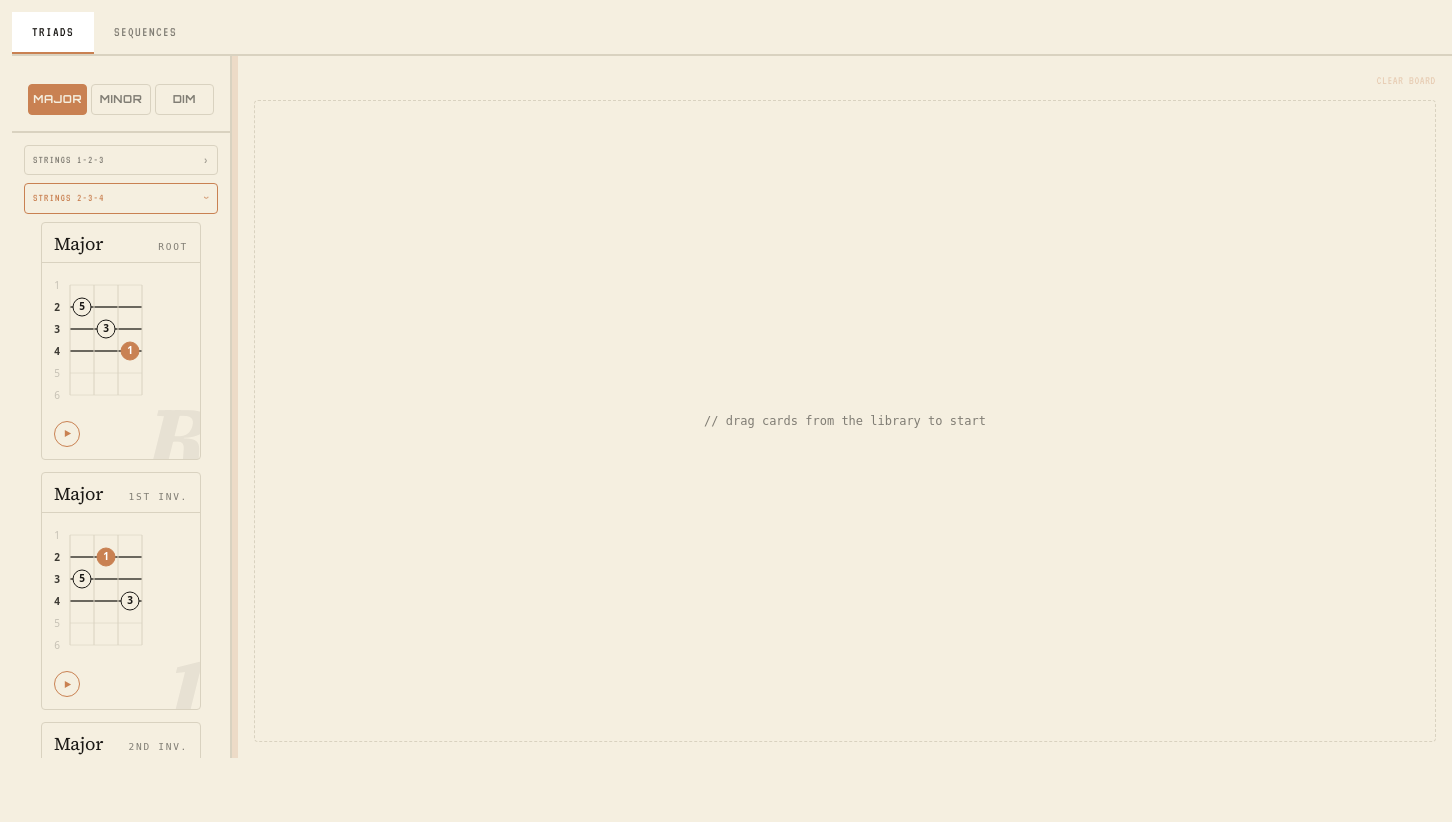
Test: Board › switches to the Sequences tab on click
Click the tab with test id "tab-sequences" at x=146, y=33, box [94,12,197,54]
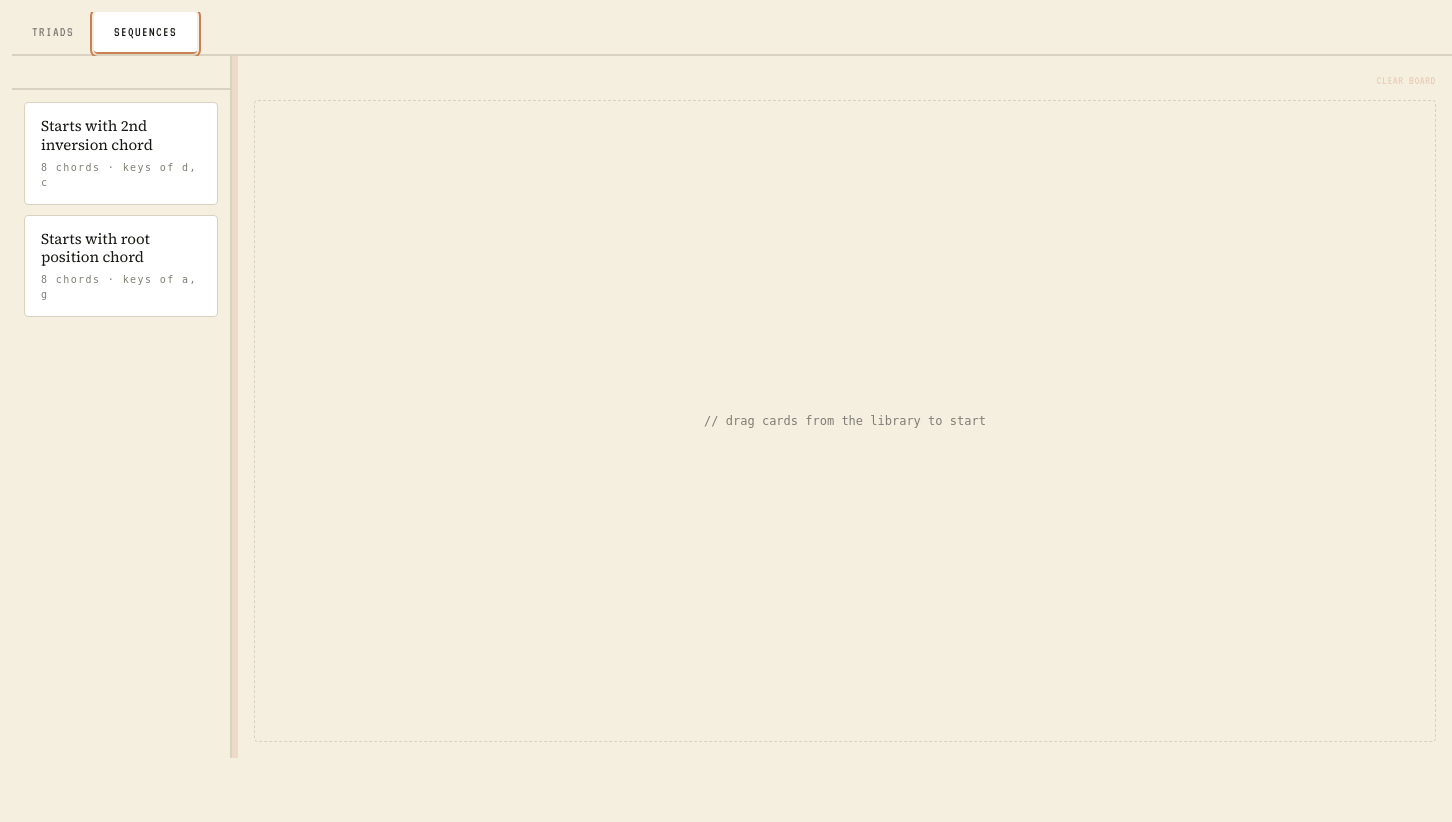
Result: the button with test id "seq-d-chords" is shown at [24,102,218,204]
